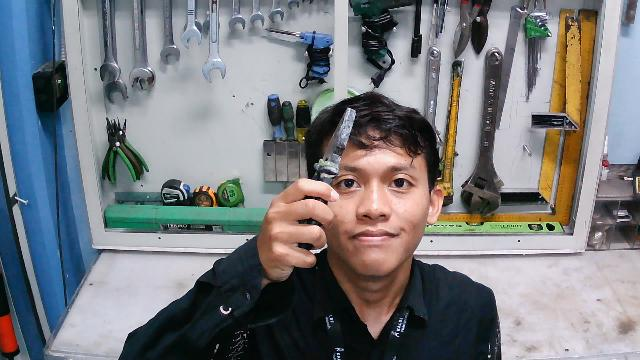tang_kombinasi: (296, 108, 358, 254)
